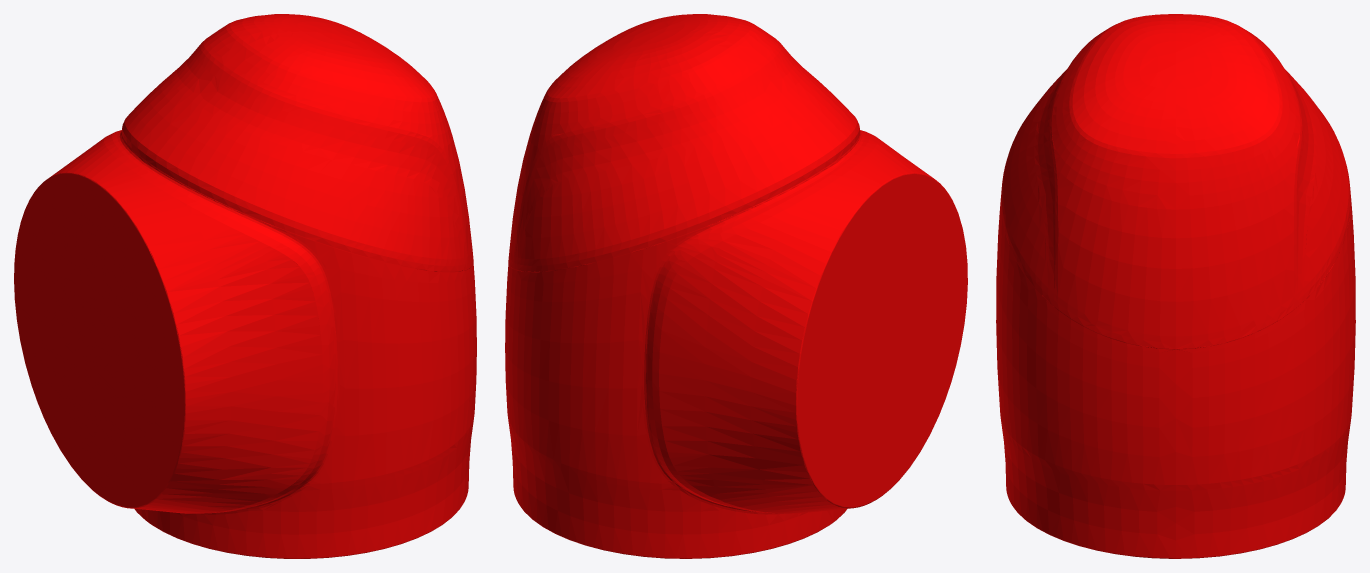
3 renders of one model, left to right at view 1: azimuth 30°, elevation 25°; view 2: azimuth 150°, elevation 25°; view 3: azimuth 270°, elevation 25°, orthographic.
Visible parts, largest first — view 1: H2017_2_2; view 2: H2017_2_2; view 3: H2017_2_2.
Part boxes in pixels (<box>): H2017_2_2: <box>14,14,476,558</box>; H2017_2_2: <box>505,14,967,558</box>; H2017_2_2: <box>996,14,1355,558</box>.
Bounding box in the file's own units: 182 × 162 × 225.
